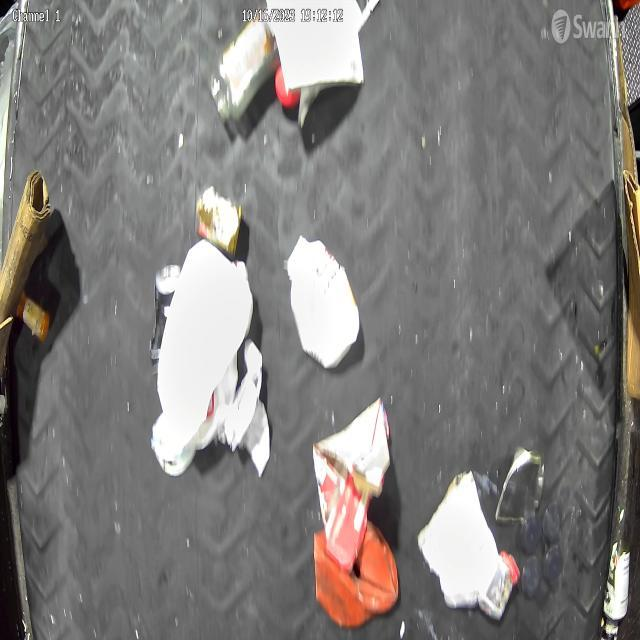can: (493, 442, 547, 527), (148, 261, 184, 373), (602, 538, 632, 622)
milk_jug: (151, 238, 255, 462)
